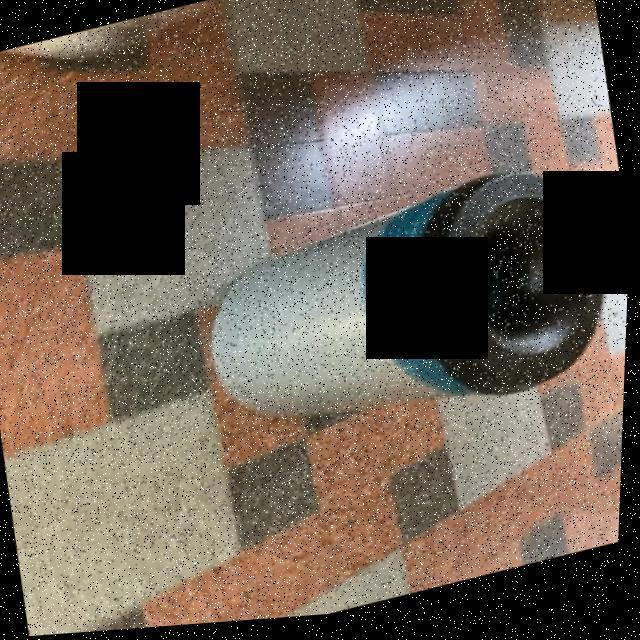bin: (160, 144, 635, 487)
